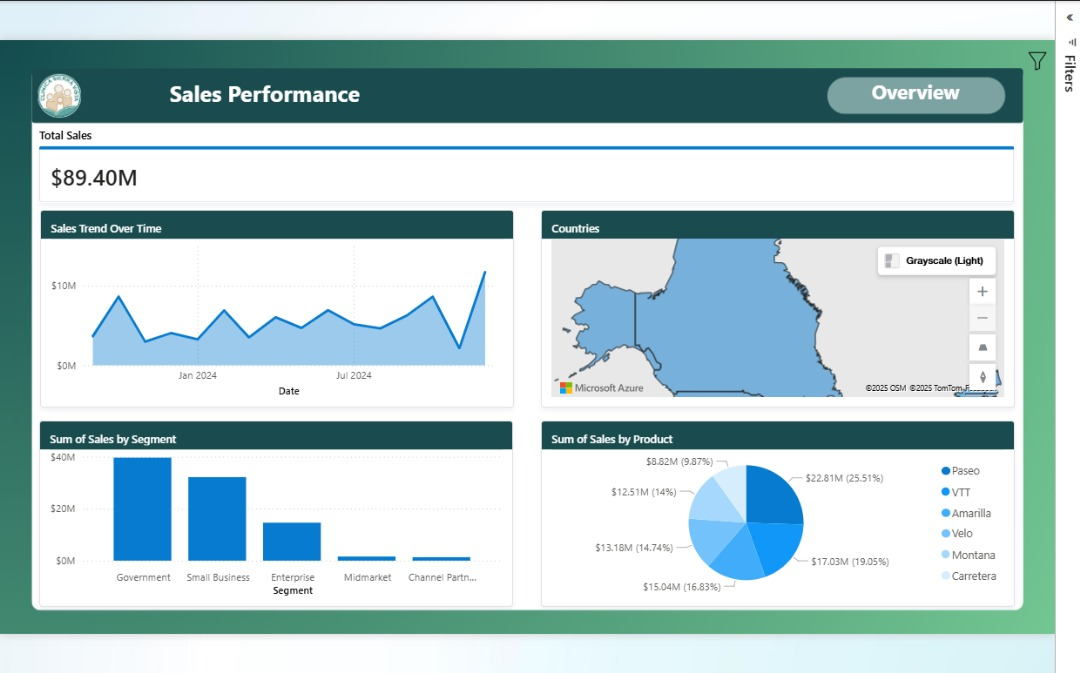

This screenshot's page, from the dashboard's own definition file:
{"tool":"powerbi","page":{"name":"Report","canvas":[1280,720],"ordinal":1},"visuals":[{"type":"textbox","box":[201.3,41,479.7,48.5],"z":0},{"type":"cardVisual","title":"Total Sales","fields":{"Data":["Sum(financials. Sales)"]},"box":[47.2,106.9,1183.1,90.7],"z":1000},{"type":"areaChart","title":"Sales Trend Over Time","fields":{"Category":["financials.Date"],"Y":["Sum(financials. Sales)"]},"box":[48.5,206.3,575.4,239.8],"z":2000},{"type":"azureMap","title":"Countries","fields":{"Category":["financials.Country"]},"box":[656.2,206.3,575.4,239.8],"z":3000},{"type":"columnChart","fields":{"Category":["financials.Segment"],"Y":["Sum(financials. Sales)"]},"box":[47.2,462.3,575.4,226.2],"z":4000},{"type":"pieChart","fields":{"Category":["financials.Product"],"Y":["Sum(financials. Sales)"]},"box":[656.2,462.3,575.4,226.2],"z":5000},{"type":"image","box":[1243,9,32,32],"z":6000},{"type":"textbox","box":[1052.6,41,137.9,48.5],"z":8000},{"type":"actionButton","box":[1035.2,49.7,155.3,39.8],"z":9000}]}

Visuals, with their boxes on the page's 1280x720 design canvas (x1, y1, x2, y2). These are canvas units, not pixel positions in the 1080x673 screenshot, which may show the page scaled, cropped or inside an application window:
textbox: [left=201, top=41, right=681, bottom=90]
"Total Sales" cardVisual: [left=47, top=107, right=1230, bottom=198]
"Sales Trend Over Time" areaChart: [left=48, top=206, right=624, bottom=446]
"Countries" azureMap: [left=656, top=206, right=1232, bottom=446]
columnChart - financials.Segment x Sum(financials. Sales): [left=47, top=462, right=623, bottom=688]
pieChart - financials.Product x Sum(financials. Sales): [left=656, top=462, right=1232, bottom=688]
image: [left=1243, top=9, right=1275, bottom=41]
textbox: [left=1053, top=41, right=1190, bottom=90]
actionButton: [left=1035, top=50, right=1190, bottom=90]
